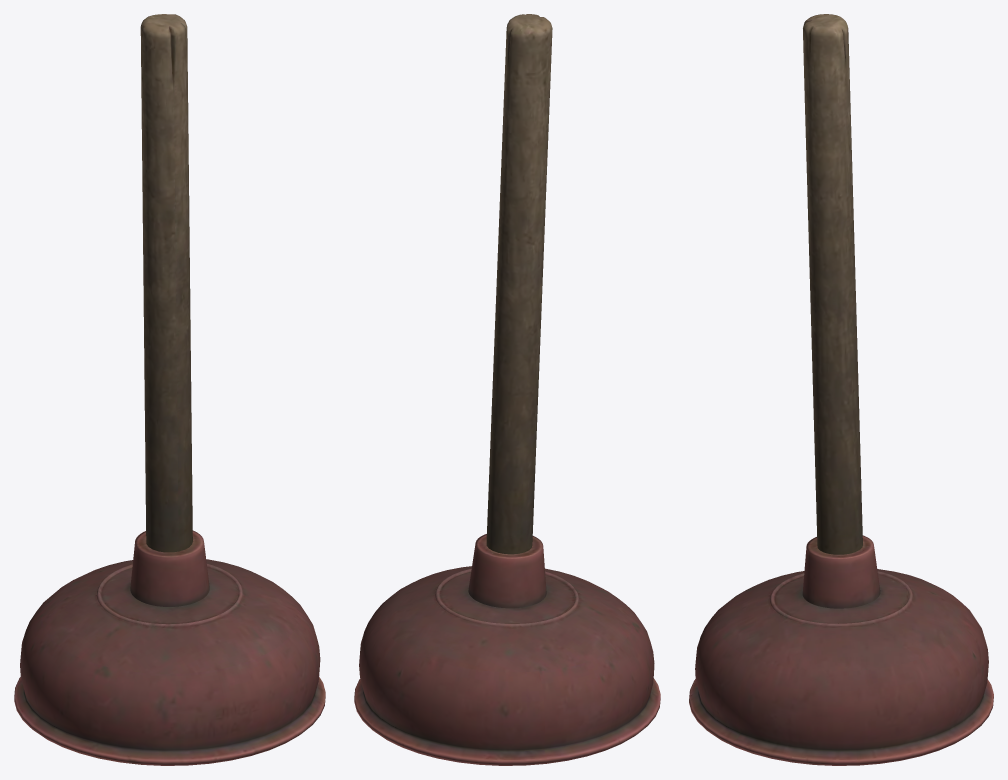
The model's file is plunger.8c3c371f.glb.
3 views of the same model, side by side, from view 1: azimuth 30°, elevation 25°; view 2: azimuth 150°, elevation 25°; view 3: azimuth 270°, elevation 25° (orthographic). The views are drawn at different scales.
Parts seen in each view (by area): view 1: plunger; view 2: plunger; view 3: plunger.
Part boxes in pixels (x1,y1,x2,y2): plunger: (14,14,325,765); plunger: (354,14,660,765); plunger: (689,14,993,765).
Size of the model in its own units: 0.4086 by 1 by 0.4086.
1 material, 1 textured.
